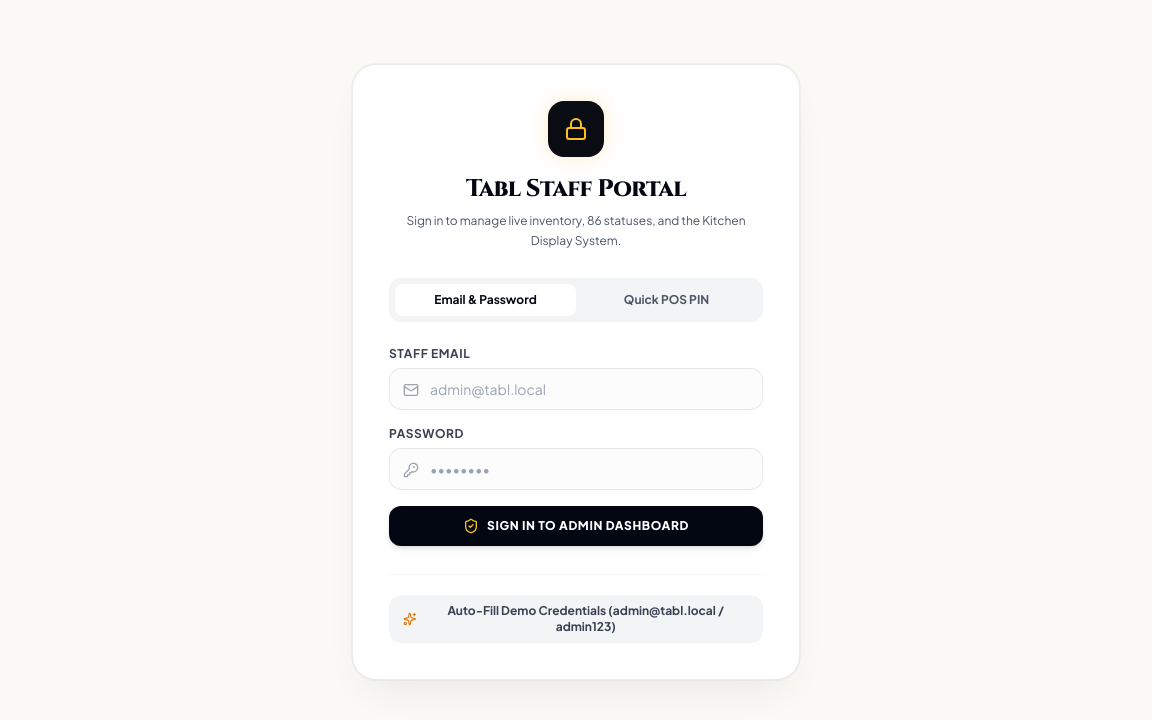
Test case: Validated Forms: Chat Input & Admin Login › Admin Login Form Validation › displays error feedback on invalid credentials and succeeds on valid login
This screenshot has width=1152, height=720.
Type "wrong@tabl.local" into the field labelled "Staff Email" at (576, 389), box x1=389 y1=368 x2=763 y2=410
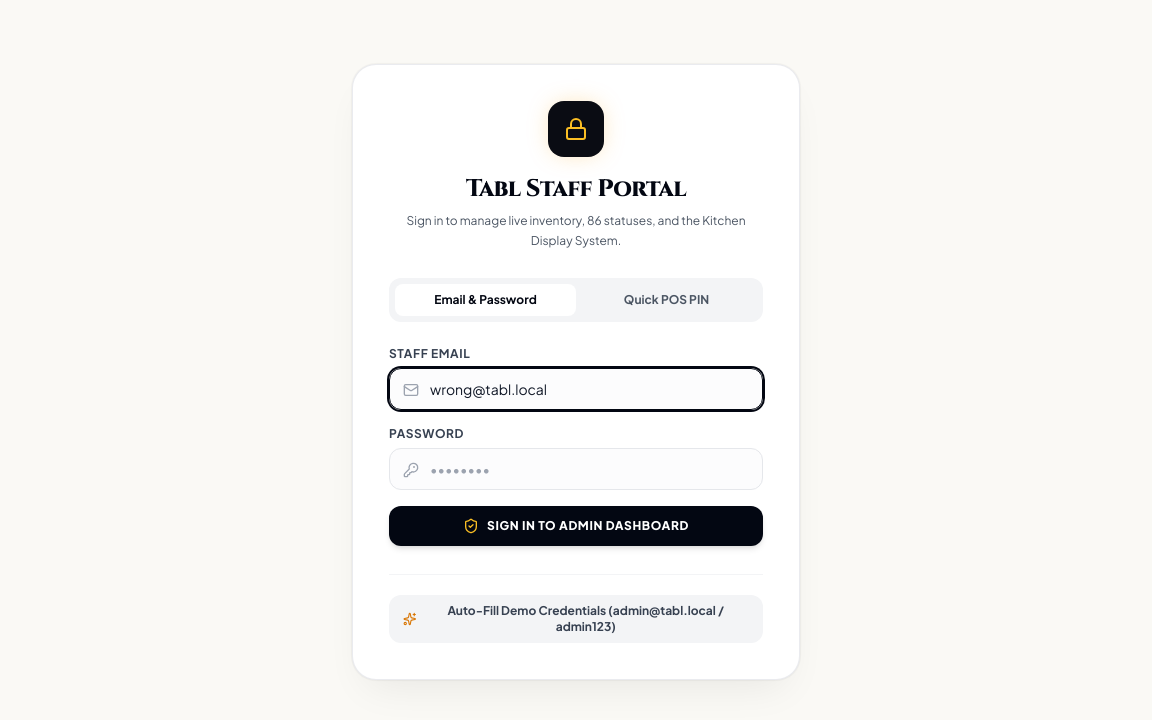
Type "wrongpass" into the password field labelled "Password" at (576, 469), box x1=389 y1=448 x2=763 y2=490
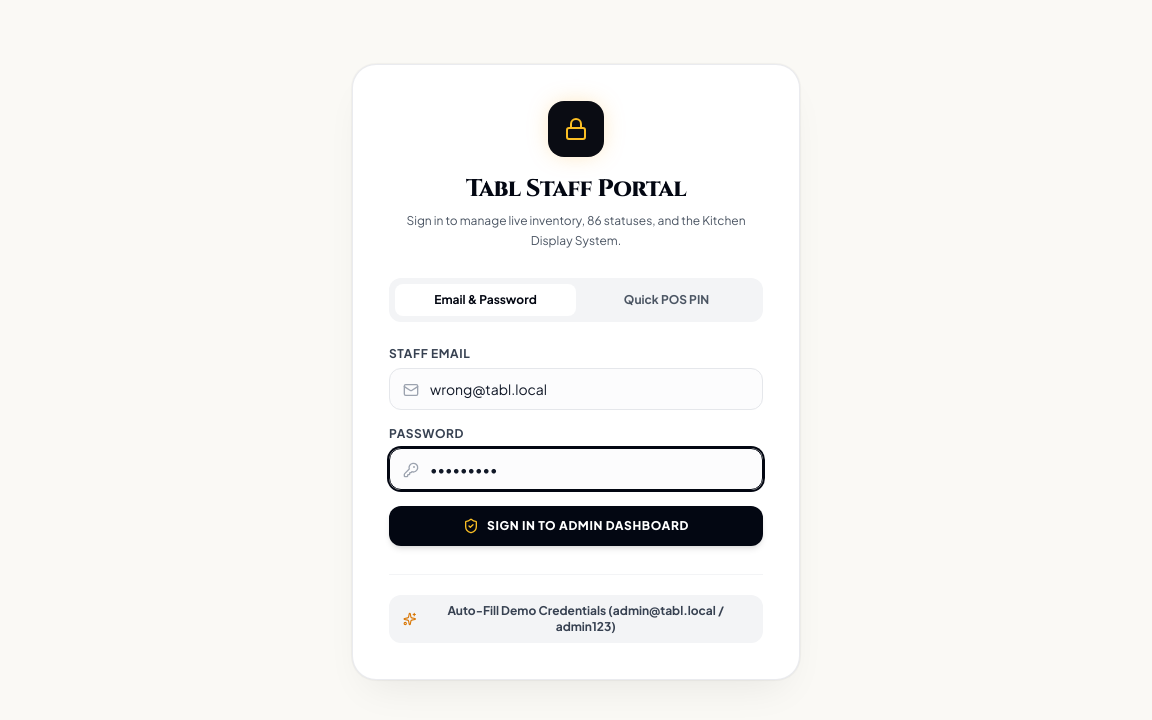
Click the button "Sign In to Admin Dashboard" at (576, 526), box x1=389 y1=506 x2=763 y2=546
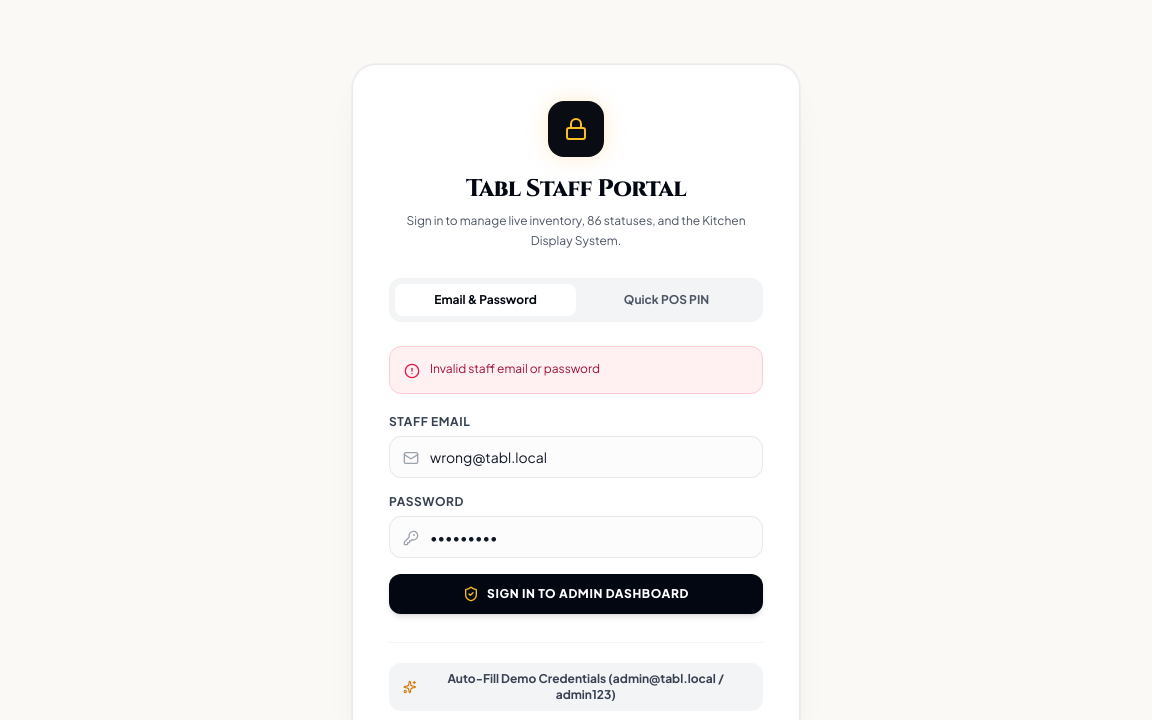
Check: the text "Invalid staff email or password" is shown, box x1=430 y1=361 x2=600 y2=377
Replace the text in the field labelled "Staff Email" with "admin@tabl.local" at (576, 457), box x1=389 y1=436 x2=763 y2=478
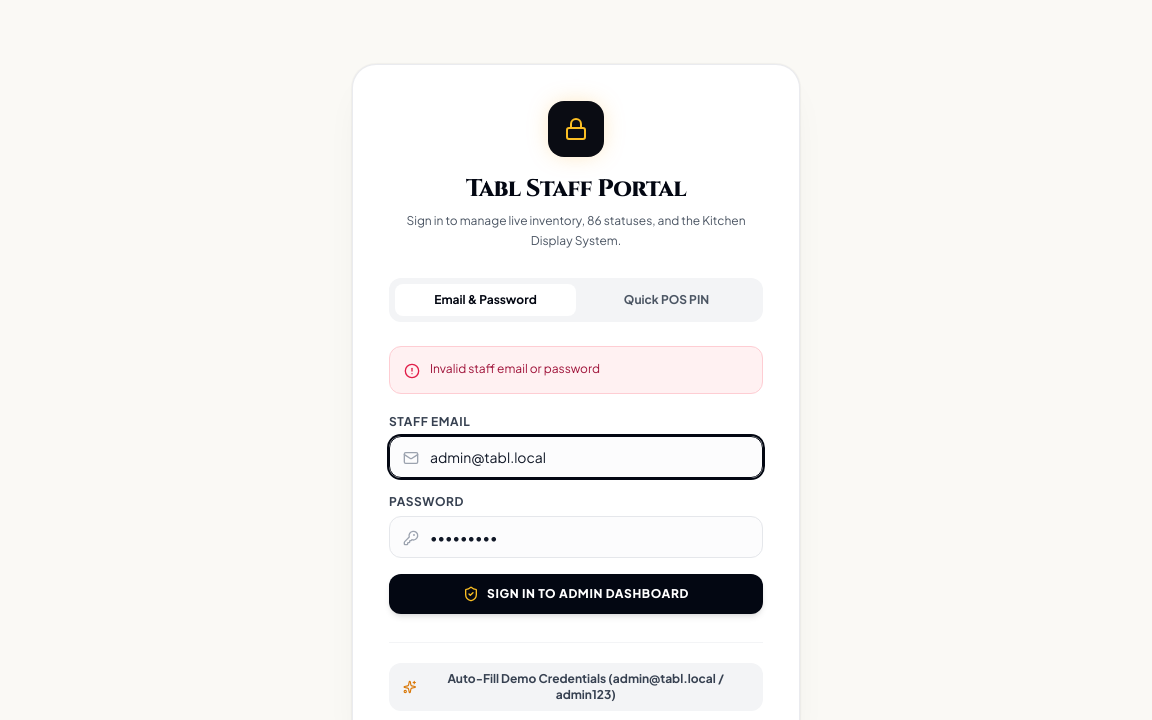
Type "admin123" into the password field labelled "Password" at (576, 537), box x1=389 y1=516 x2=763 y2=558
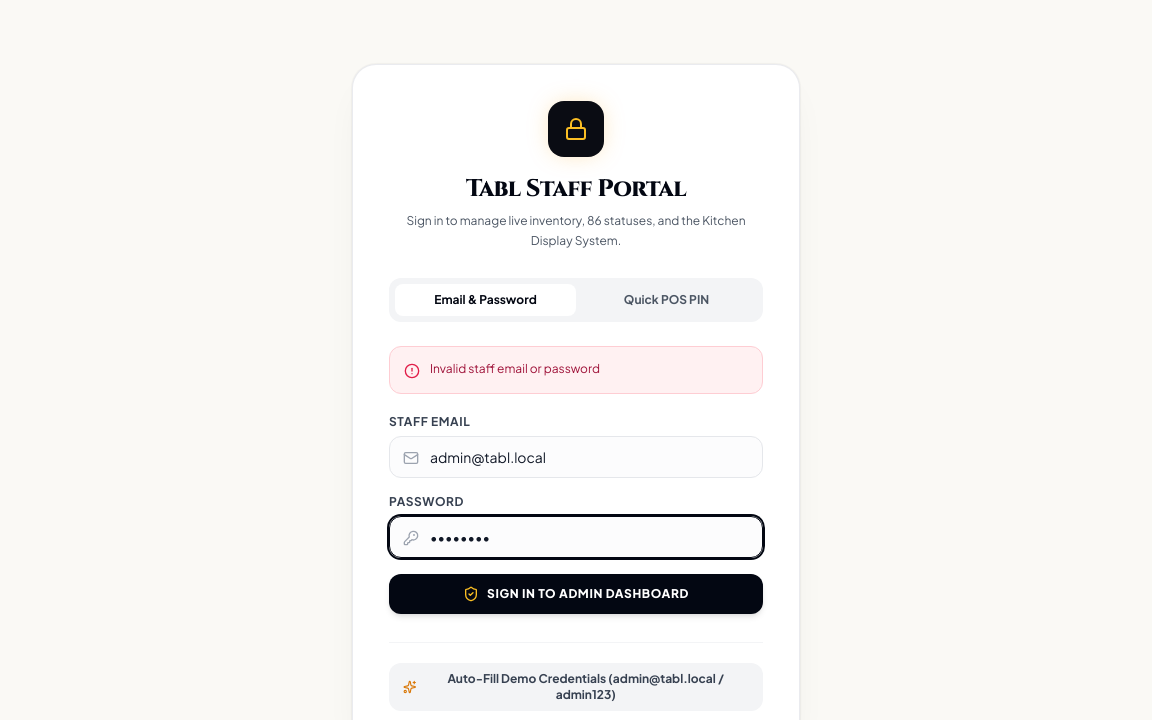
Click the button "Sign In to Admin Dashboard" at (576, 594), box x1=389 y1=574 x2=763 y2=614
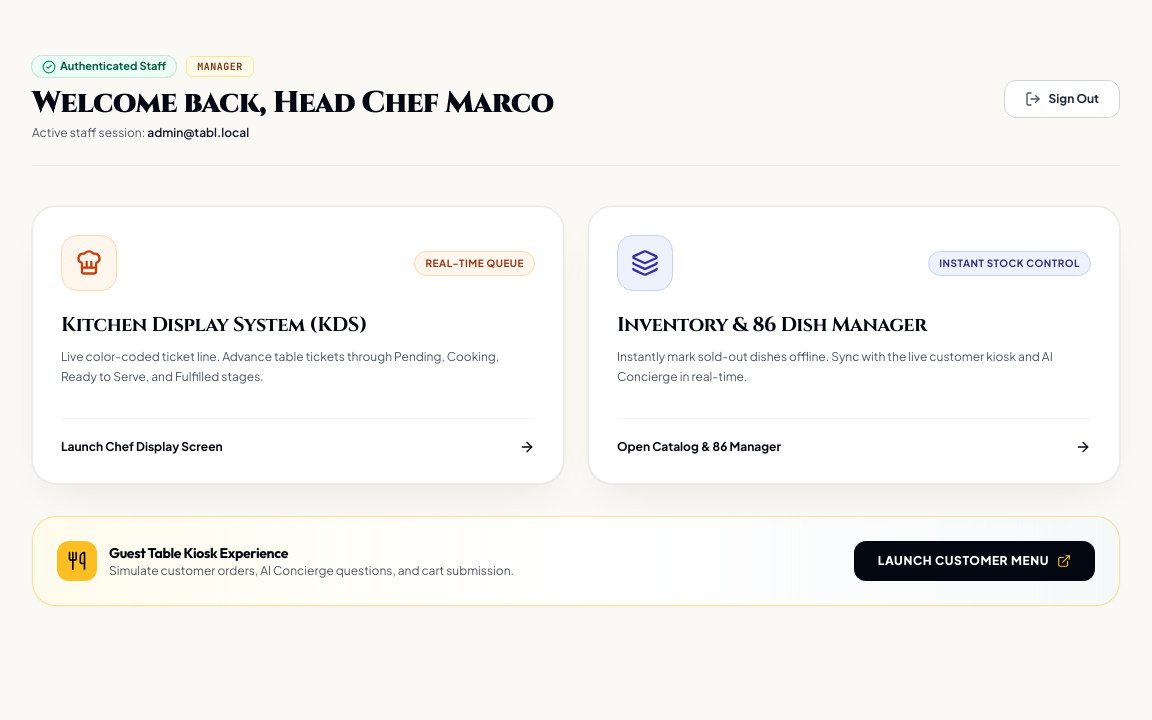
Check: the heading "Welcome back, Head Chef Marco" is shown, box x1=32 y1=85 x2=553 y2=121
Check: the button "Sign Out" is shown, box x1=1004 y1=80 x2=1120 y2=118
